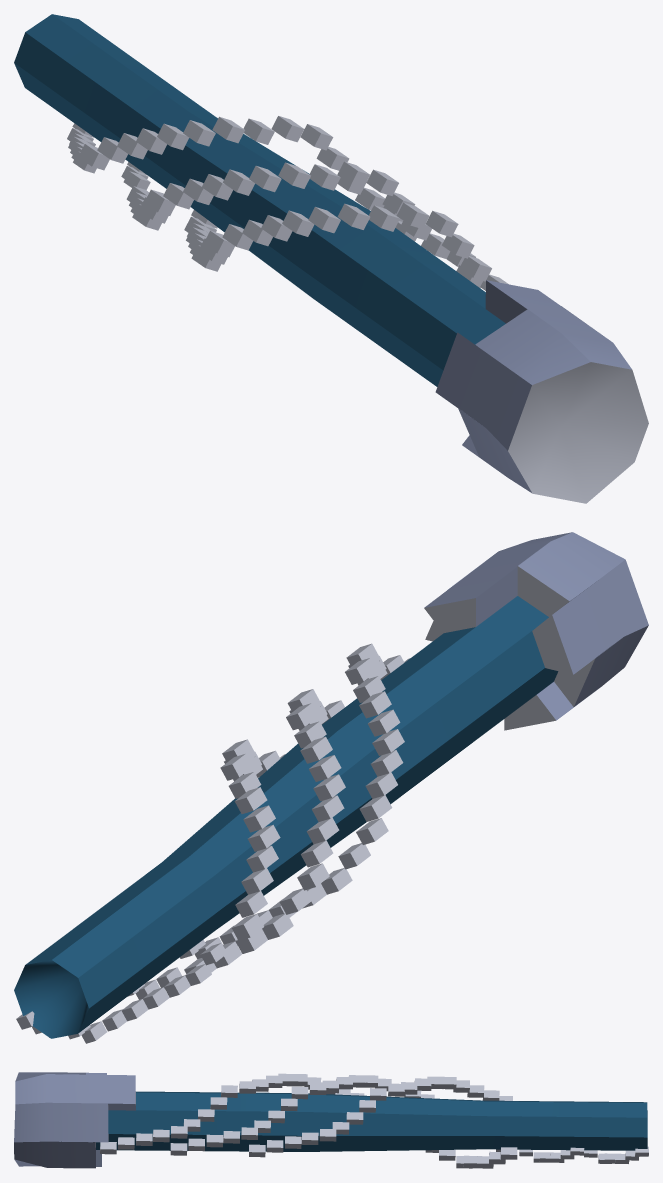
The model's file is waterattack.fbx.
The picture shows the model from 3 angles, top to bottom: view 1: azimuth 30°, elevation 25°; view 2: azimuth 150°, elevation 25°; view 3: azimuth 270°, elevation 25°; orthographic projection. The views are drawn at different scales.
Parts seen in each view (by area): view 1: waterspell; view 2: waterspell; view 3: waterspell.
Part boxes in pixels (x1=…): waterspell: x1=14, y1=14, x2=648, y2=503; waterspell: x1=14, y1=532, x2=648, y2=1043; waterspell: x1=14, y1=1072, x2=648, y2=1168.
Size of the model in its own units: 87.16 by 79.4 by 475.
